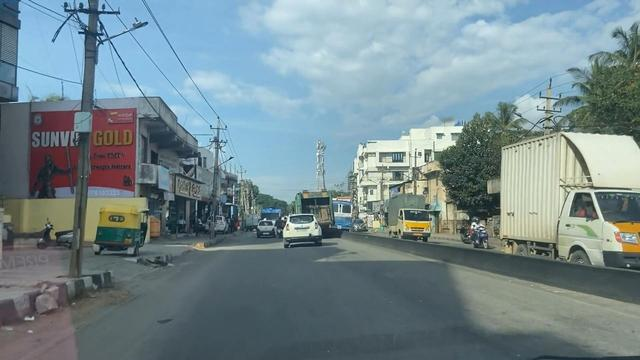LMV: (283, 217, 322, 246)
